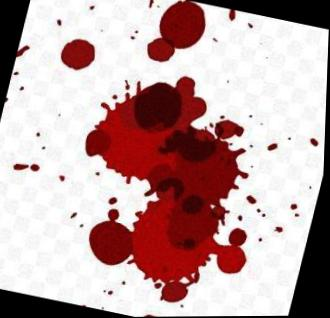Fire: (86, 75, 251, 302), (147, 0, 207, 62), (61, 38, 96, 70), (145, 314, 160, 317)
